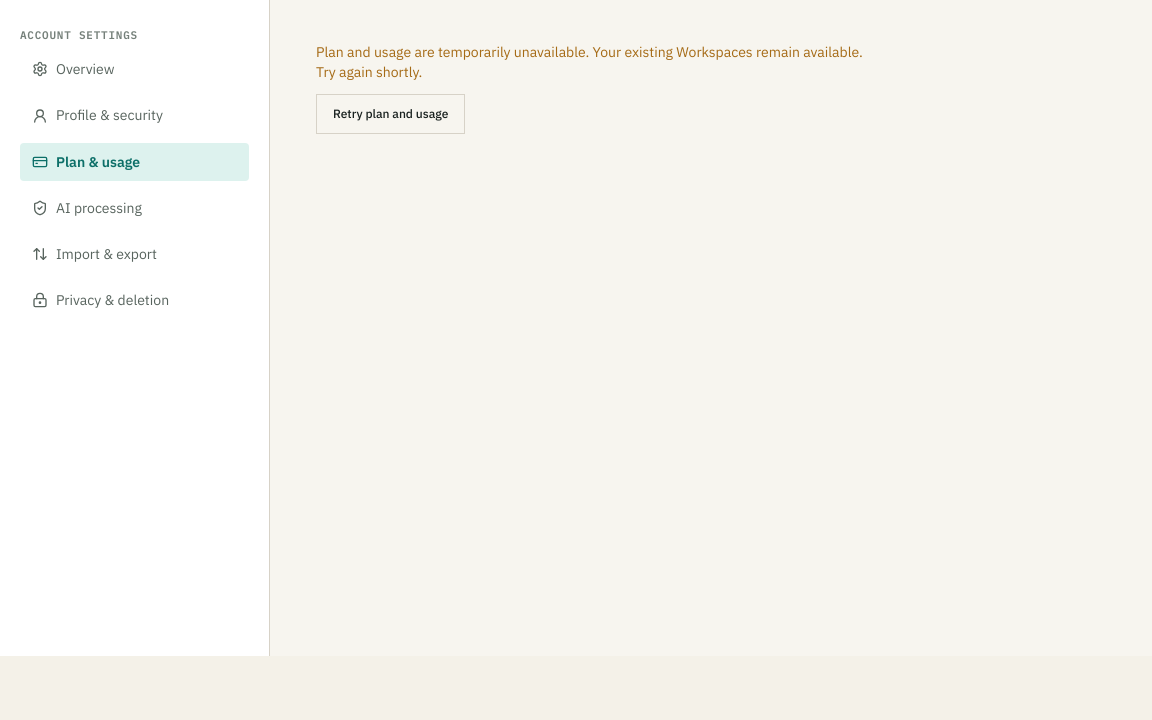
Scenario: AccountDetail › offers a retry when plan and usage cannot be loaded
Expected: the message shows "Plan and usage are temporarily unavailable", [316,43,863,81]
Click the button "Retry plan and usage". click: point(391, 114)
box: [316,94,465,134]
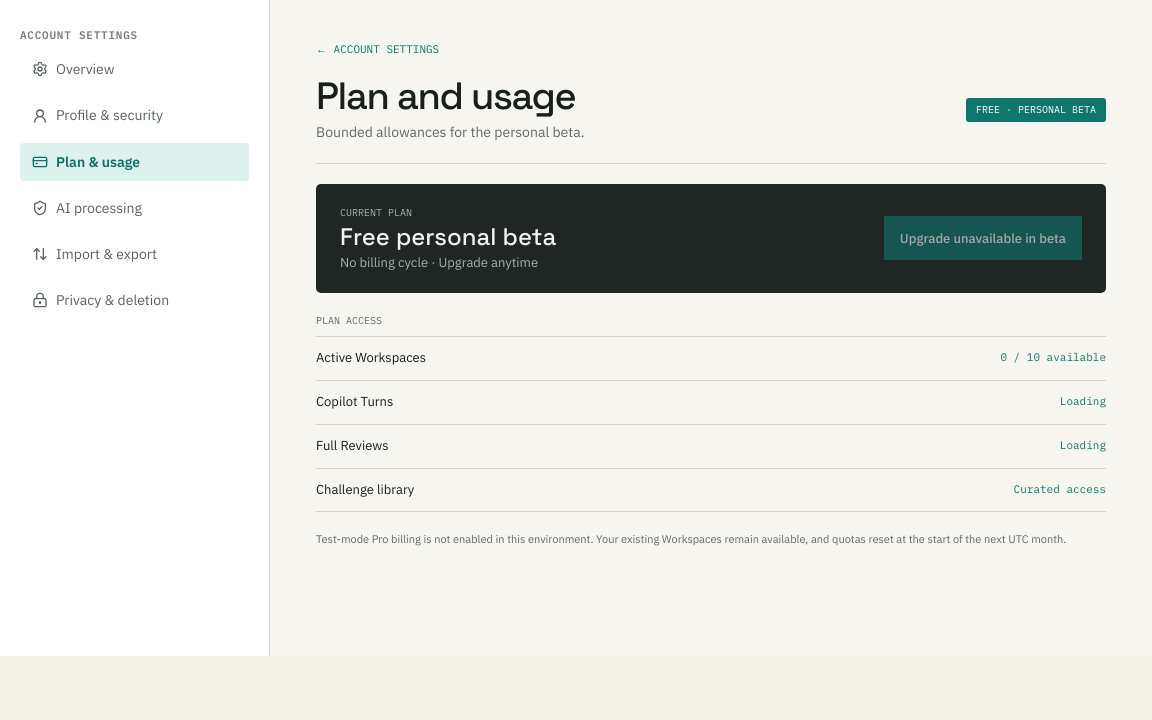
Expected: the heading "Free personal beta" is shown, [340,225,556,249]
